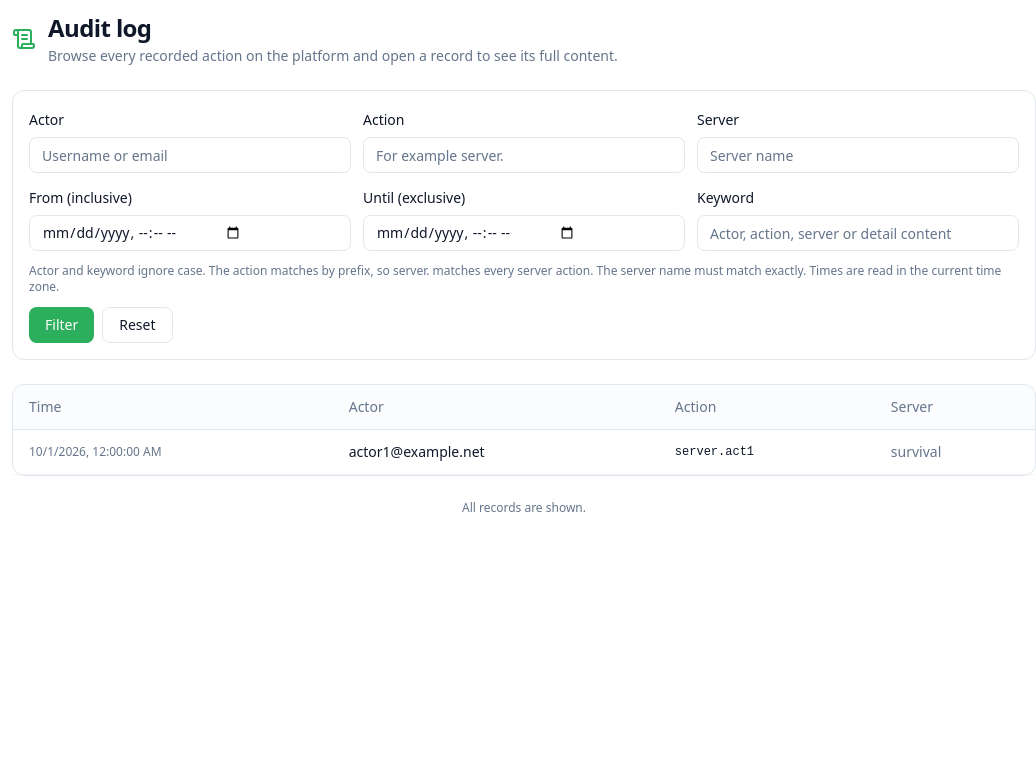
Test: AuditPage › refuses an end time that does not follow the start time
The width and height of the screenshot is (1036, 780).
Expected: the text "server.act1" is shown, x1=659 y1=430 x2=875 y2=474
Type "2026-10-02T08:00" into the field labelled "From (inclusive)" at x=190, y=233, box x1=29 y1=215 x2=351 y2=251
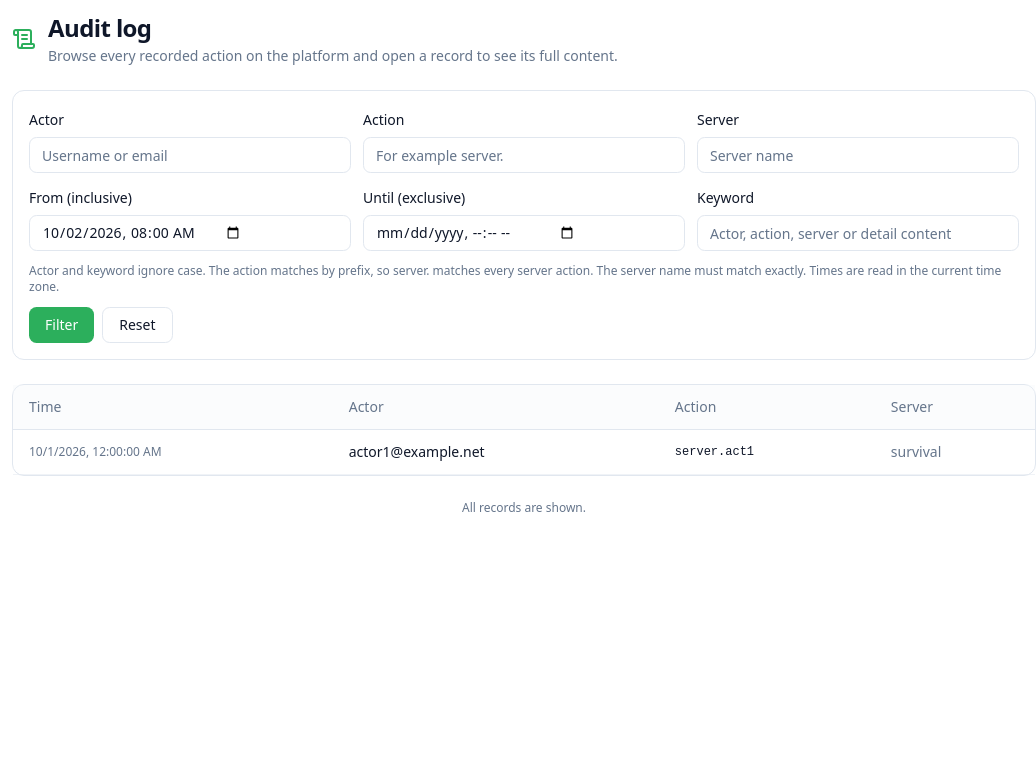
Type "2026-10-01T08:00" into the field labelled "Until (exclusive)" at x=524, y=233, box x1=363 y1=215 x2=685 y2=251
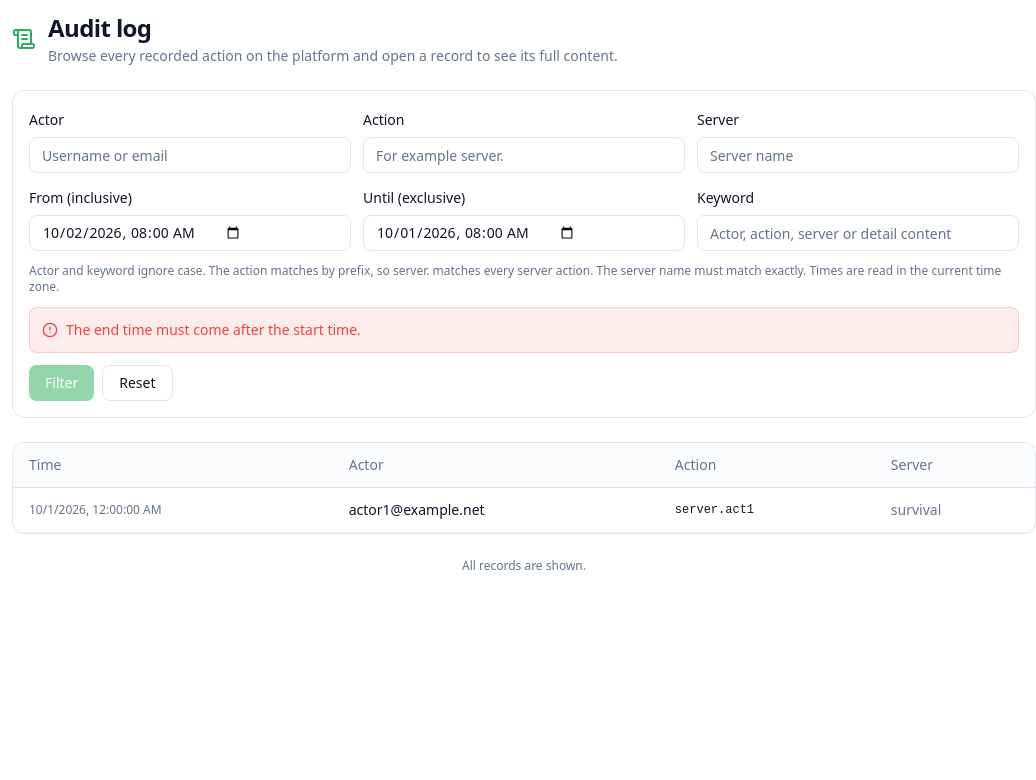
Now the text "The end time must come after the start time." is shown, box x1=66 y1=320 x2=361 y2=340
Now the button "Filter" is disabled, box x1=29 y1=365 x2=94 y2=401
